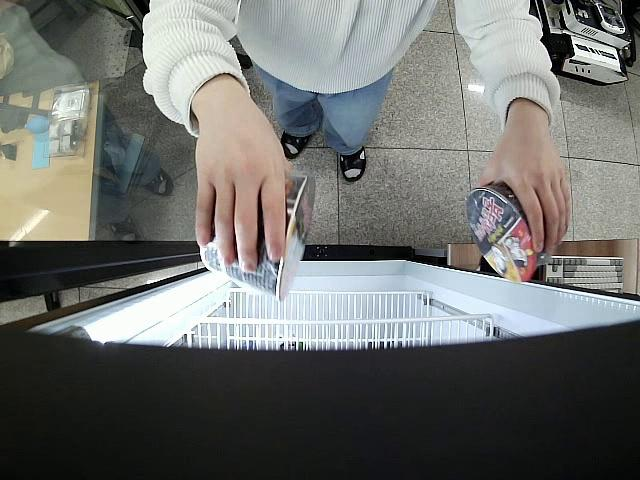00_hand: (194, 117, 289, 273), (477, 124, 571, 259)
07_buldak_L: (200, 168, 319, 303), (463, 183, 541, 286)
